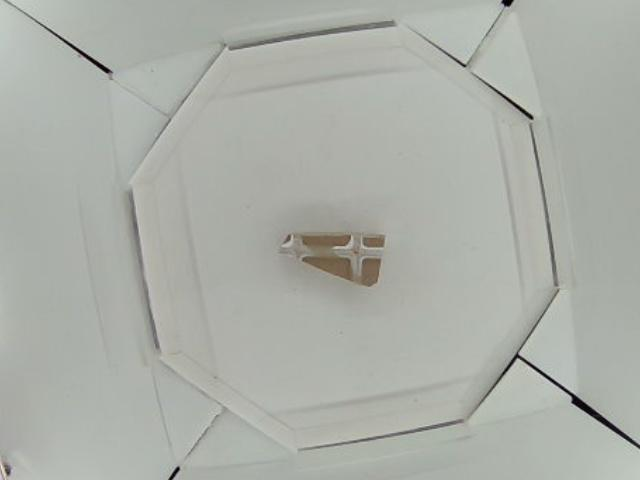China: (279, 231, 388, 287)
